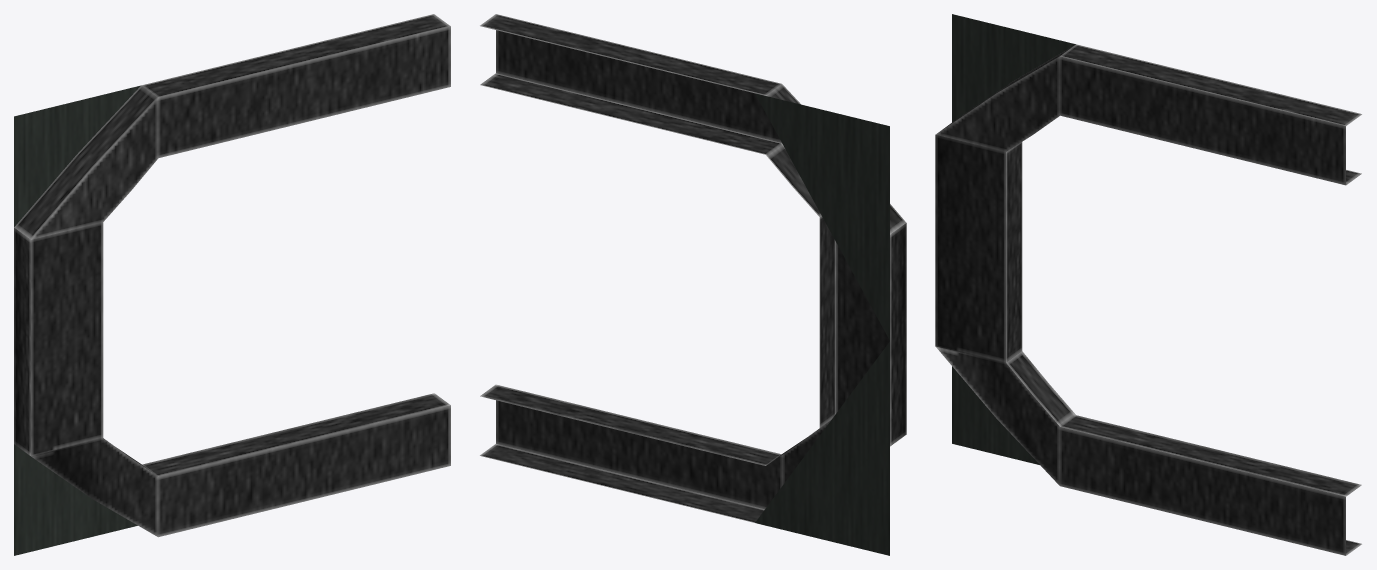
File: CubeBasefrontWindowsL.fbx
The picture shows the model from 3 angles, left to right: view 1: azimuth 30°, elevation 25°; view 2: azimuth 150°, elevation 25°; view 3: azimuth 330°, elevation 25°; orthographic projection. The views are drawn at different scales.
Parts seen in each view (by area): view 1: pCube1, pCube2; view 2: pCube1, pCube2; view 3: pCube1, pCube2.
Part boxes in pixels (<box>): pCube1: <box>14,14,450,537</box>; pCube2: <box>14,85,140,555</box>; pCube1: <box>480,14,906,522</box>; pCube2: <box>755,93,889,555</box>; pCube1: <box>935,44,1361,555</box>; pCube2: <box>952,14,1075,464</box>.
Bounding box in the file's own units: 1 × 1 × 0.0695.
1 material, 1 textured.
